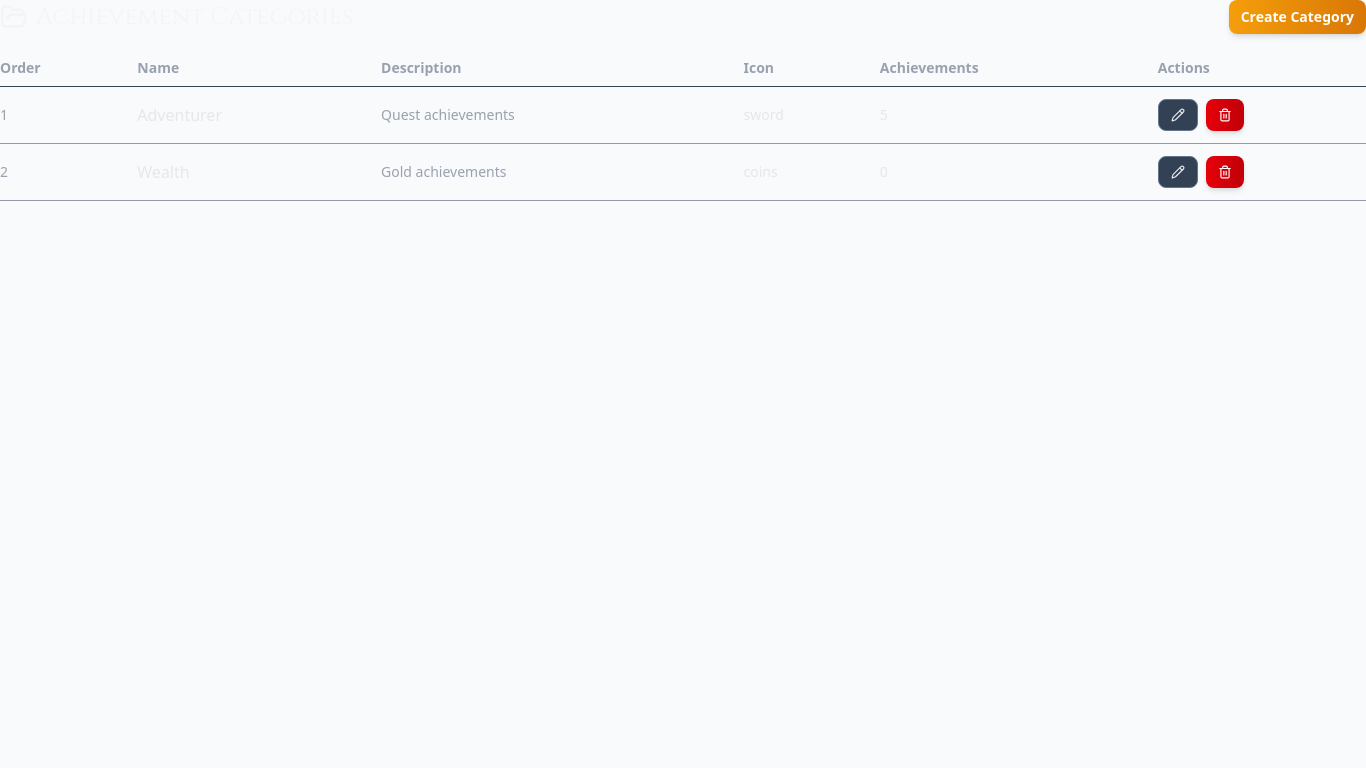
AchievementCategoryAdmin › opens edit form when clicking edit button
Expected: the text "Adventurer" is shown, [137,86,381,143]
Step 1. Click the button with test id "edit-category-cat-1" → (1178, 114), box [1158,98,1198,130]
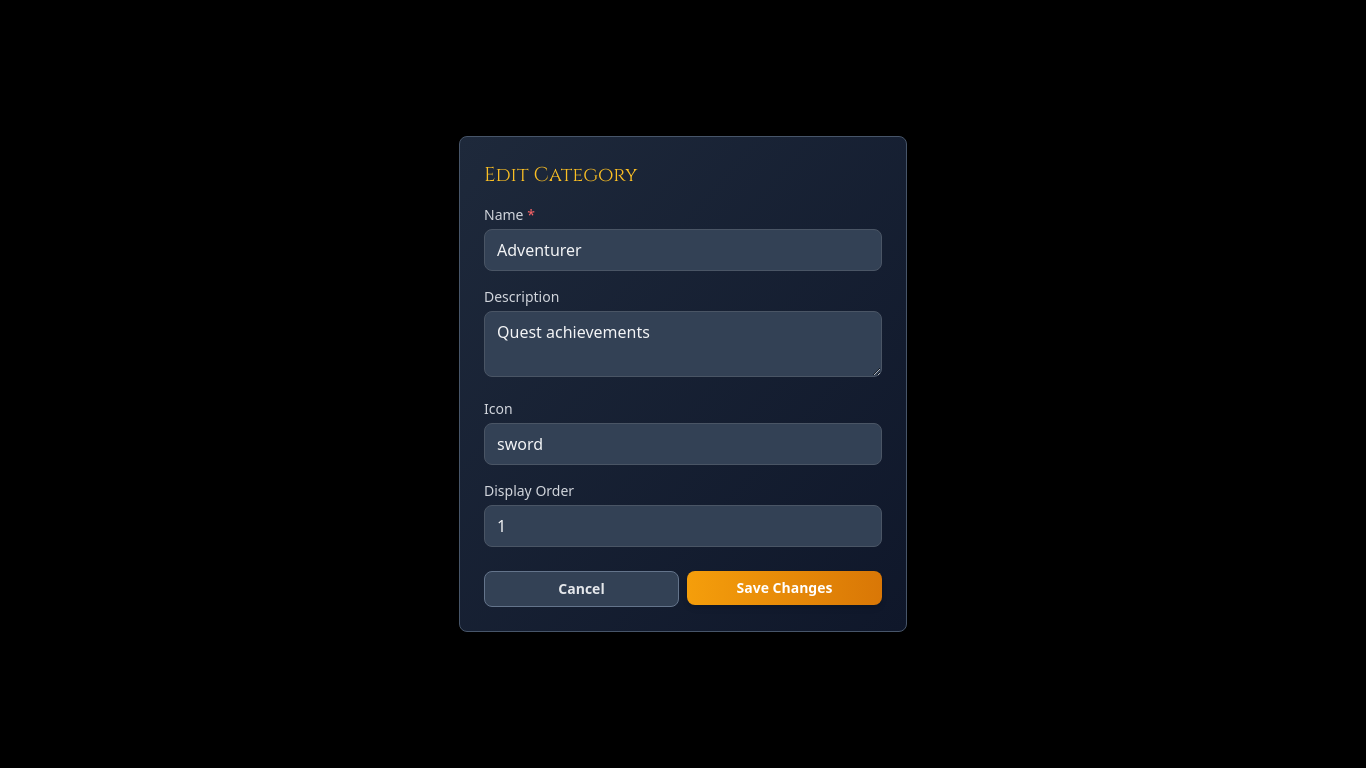
Expected: the element with test id "category-form" is shown, [459,136,907,632]
Expected: the field with test id "category-name-input" holds "Adventurer", [484,229,882,271]
